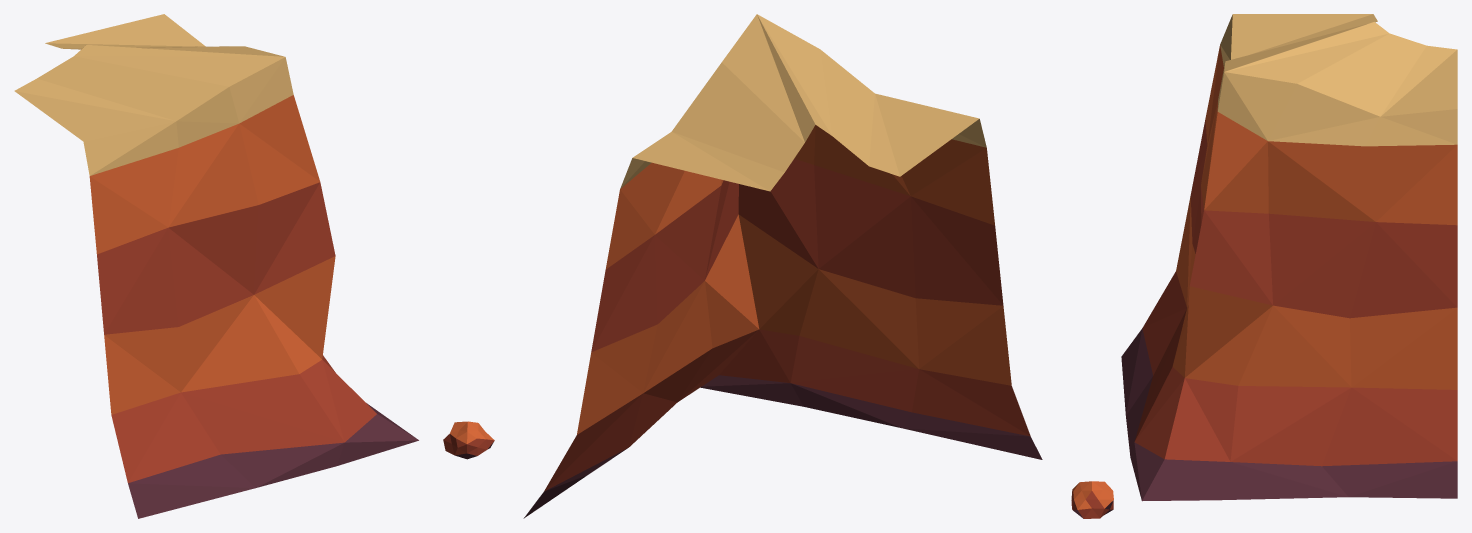
File: Mtn_Corner_Out.fbx
3 views of the same model, side by side, from view 1: azimuth 30°, elevation 25°; view 2: azimuth 150°, elevation 25°; view 3: azimuth 270°, elevation 25° (orthographic). The views are drawn at different scales.
Parts seen in each view (by area): view 1: Mtn_Corner_Out; view 2: Mtn_Corner_Out; view 3: Mtn_Corner_Out.
Part boxes in pixels (bbox=[...]): Mtn_Corner_Out: bbox=[14, 14, 494, 518]; Mtn_Corner_Out: bbox=[523, 14, 1042, 518]; Mtn_Corner_Out: bbox=[1071, 14, 1457, 518].
Size of the model in its own units: 18.71 by 20.11 by 18.38.
